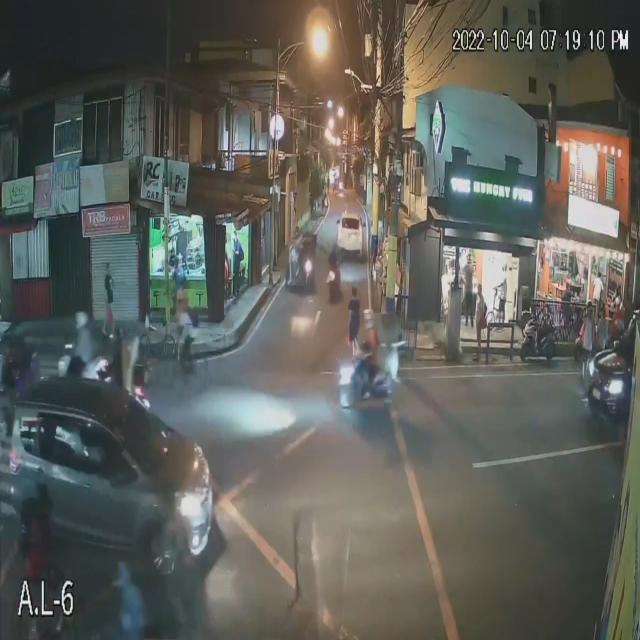Not-Wearing-Helmet: (360, 302, 376, 330)
